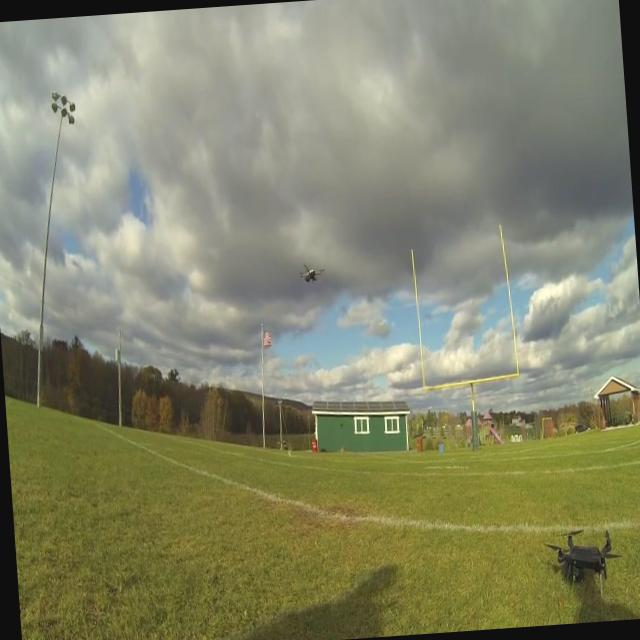drone: (297, 260, 328, 290)
